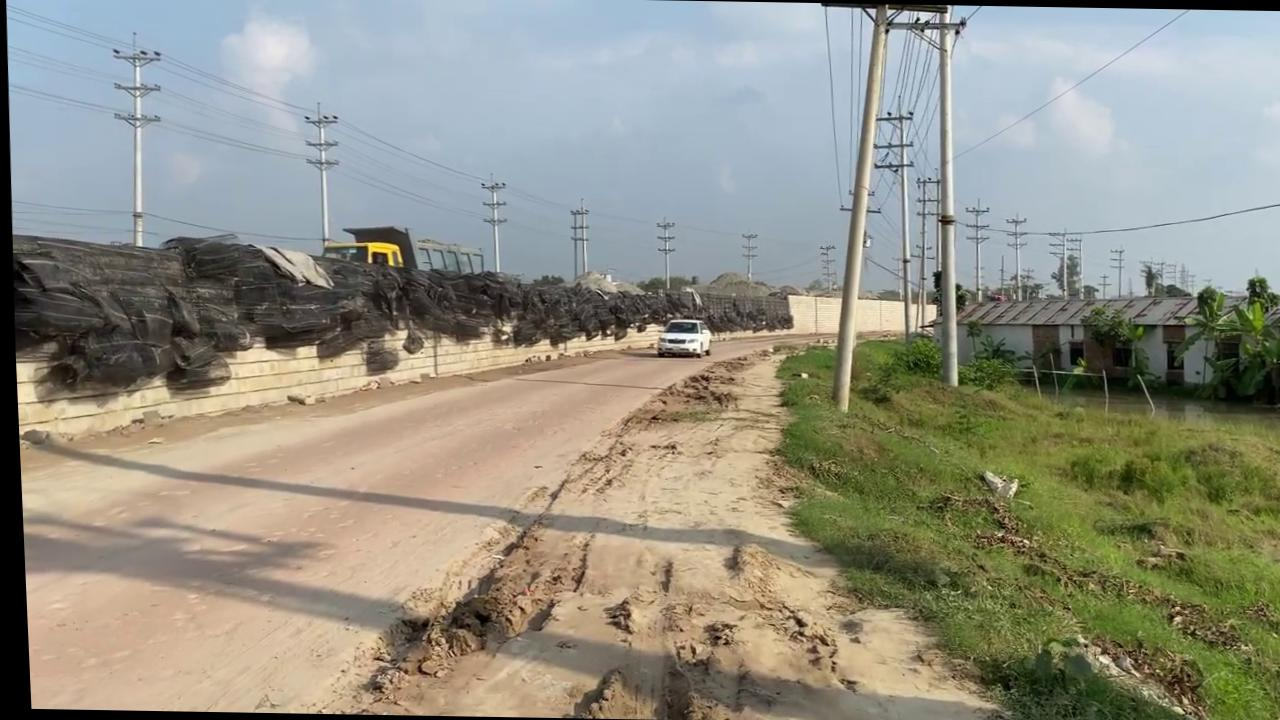Car: (652, 318, 710, 358)
Garbage: (8, 228, 794, 407)
Muddy road: (11, 310, 1003, 720)
Pole: (813, 4, 903, 414), (923, 9, 967, 387)
Traffic-sign: (1165, 272, 1280, 406)
Tree: (318, 224, 483, 275)
